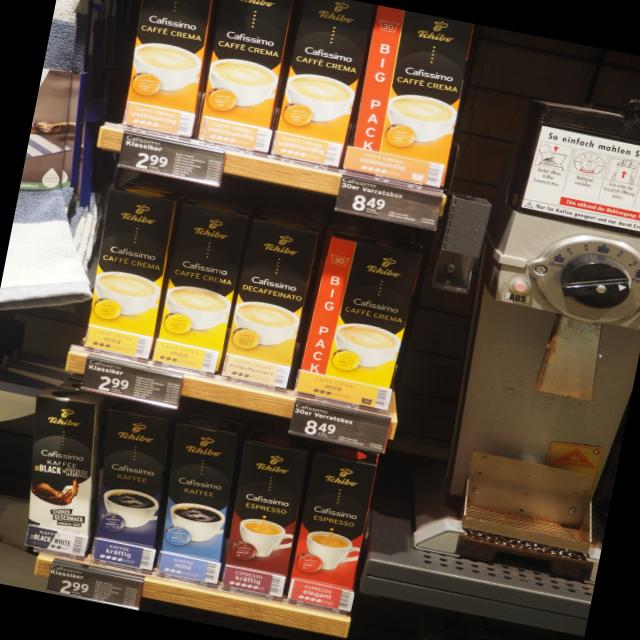Simo CCMild: (293, 226, 427, 412)
Simo CCMild bigpack: (149, 197, 254, 376), (84, 183, 180, 361)
Simo CCVollmundig: (348, 6, 475, 188)
Simo CCVollmundig bigpack: (271, 0, 377, 170), (195, 0, 295, 153), (121, 0, 215, 139)
Simo Decaff: (219, 212, 325, 391)
Simo Es Elegant: (285, 451, 380, 614)
Simo Es Kraft: (220, 439, 310, 600)
Simo Kaffee BW: (24, 386, 105, 558)
Simo Kaffee Kraft: (92, 409, 173, 572)
Simo Kaffee Mild: (157, 421, 240, 586)
